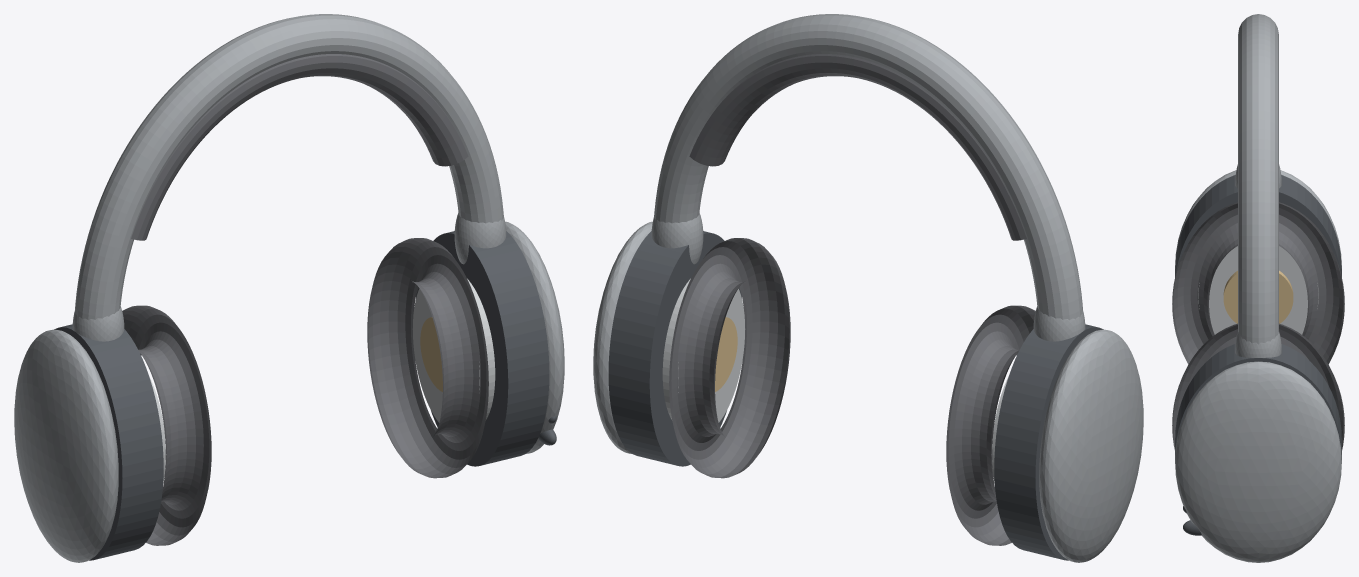
File: nuno.glb
The picture shows the model from 3 angles, left to right: view 1: azimuth 30°, elevation 25°; view 2: azimuth 150°, elevation 25°; view 3: azimuth 270°, elevation 25°; orthographic projection. The views are drawn at different scales.
Visible parts, largest first — view 1: Headband, Right_Ear_Cushion, Left_Outer_Shell, Right_EarCup, Left_Ear_Cushion, Left_EarCup, Headband_Cushion, Right_Outer_Shell, Right_Speaker_Driver, Right_Hinge, Left_Hinge, Right_Driver_Core; view 2: Headband, Right_Ear_Cushion, Left_Outer_Shell, Right_EarCup, Left_Ear_Cushion, Left_EarCup, Headband_Cushion, Right_Outer_Shell, Right_Speaker_Driver, Right_Hinge, Left_Hinge, Right_Driver_Core; view 3: Right_Outer_Shell, Headband, Left_Ear_Cushion, Left_EarCup, Right_EarCup, Right_Ear_Cushion, Left_Speaker_Driver, Left_Driver_Core, Right_Hinge, Left_Outer_Shell.
Part boxes in pixels (x1,y1,x2,y2): Headband: (75,14,503,320); Right_Ear_Cushion: (367,238,488,478); Left_Outer_Shell: (14,329,118,562); Right_EarCup: (416,231,549,466); Left_Ear_Cushion: (122,305,211,545); Left_EarCup: (54,324,163,560); Headband_Cushion: (131,54,468,240); Right_Outer_Shell: (505,221,564,453); Right_Speaker_Driver: (412,278,495,422); Right_Hinge: (454,213,506,264); Left_Hinge: (72,306,124,341); Right_Driver_Core: (420,317,442,391); Headband: (654,14,1082,320); Right_Ear_Cushion: (669,238,790,478); Left_Outer_Shell: (1039,329,1143,562); Right_EarCup: (608,231,741,466); Left_Ear_Cushion: (946,305,1035,545); Left_EarCup: (994,324,1103,560); Headband_Cushion: (689,54,1026,240); Right_Outer_Shell: (593,221,652,453); Right_Speaker_Driver: (662,278,745,422); Right_Hinge: (651,213,703,264); Left_Hinge: (1033,306,1085,341); Right_Driver_Core: (715,317,737,391); Right_Outer_Shell: (1175,361,1341,562); Headband: (1238,14,1278,344); Left_Ear_Cushion: (1172,202,1344,364); Left_EarCup: (1175,175,1341,276); Right_EarCup: (1175,344,1341,459); Right_Ear_Cushion: (1172,323,1344,449); Left_Speaker_Driver: (1198,246,1318,334); Left_Driver_Core: (1223,270,1293,323); Right_Hinge: (1235,332,1281,357); Left_Outer_Shell: (1175,170,1341,268).
Size of the model in its own units: 2.64 by 2.48 by 0.89.
